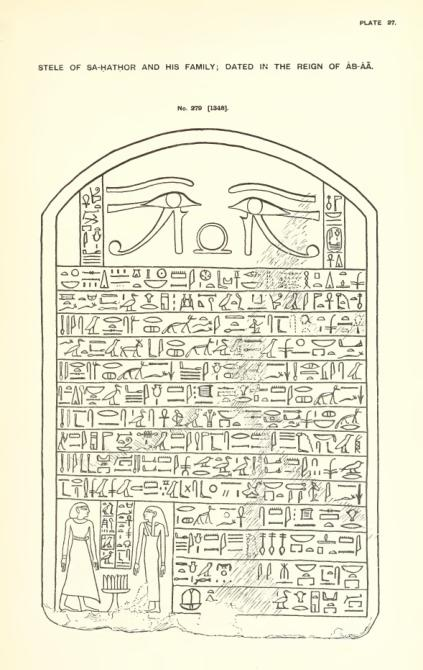circle: (327, 225, 344, 256)
